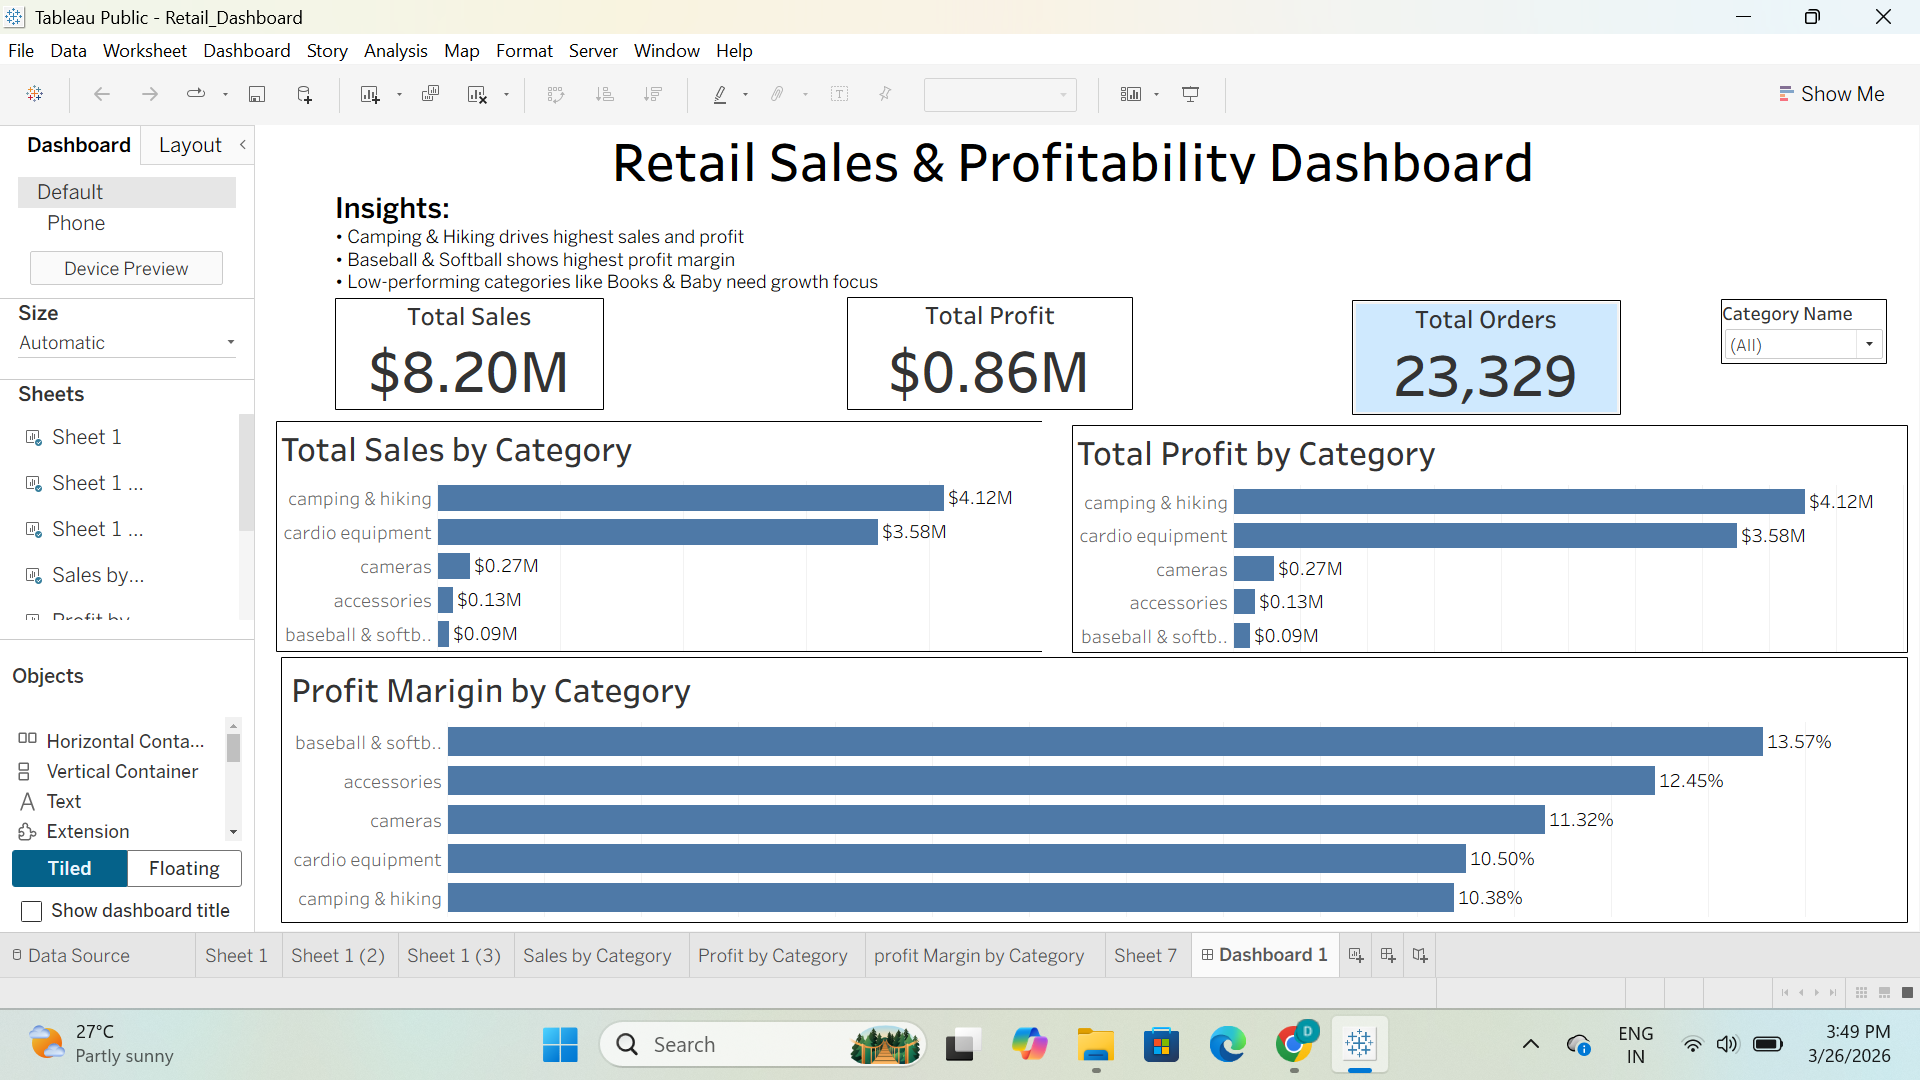

This screenshot's page, from the dashboard's own definition file:
{"tool":"tableau","page":{"name":"Dashboard 1","canvas":[1000,1000],"units":"permille","ordinal":0},"visuals":[{"type":"text","box":[8.7,12.4,965.1,60.8]},{"type":"text","box":[45.6,81.9,908.9,129]},{"type":"worksheet","title":"Sheet 1 (2)","mark":"Automatic","box":[352.9,207.2,177.7,152.6]},{"type":"worksheet","title":"Sheet 1","mark":"Automatic","box":[44.9,208.4,167.7,151.4]},{"type":"worksheet","title":"Sheet 1 (3)","mark":"Automatic","box":[656.5,210.9,167.7,155.1]},{"type":"filter","title":"Sales by Category","param":"[federated.1agfpco09b7ufm1dhquy41u8c0mh].[none:category_name:nk]","box":[880.9,215.9,99.8,80.7]},{"type":"worksheet","title":"Sales by Category","mark":"Automatic","rows":["category_name"],"cols":["total_sales"],"box":[12.5,367.2,460.7,286.6]},{"type":"worksheet","title":"Profit by Category","mark":"Automatic","rows":["category_name"],"cols":["total_profit"],"box":[491.3,372.2,502.5,282.9]},{"type":"worksheet","title":"profit Margin by Category","mark":"Automatic","rows":["category_name"],"cols":["Calculation_0961575812714496"],"box":[12.5,653.9,983.8,342.4]}]}

Visuals, with their boxes on the dashboard's canvas, which has no fixed pixel size, in thousandths of its width and height (x1, y1, x2, y2). These are canvas units, not pixel positions in the 1920x1080 screenshot, which may show the page scaled, cropped or inside an application window:
text: box(9, 12, 974, 73)
text: box(46, 82, 954, 211)
"Sheet 1 (2)" worksheet: box(353, 207, 531, 360)
"Sheet 1" worksheet: box(45, 208, 213, 360)
"Sheet 1 (3)" worksheet: box(656, 211, 824, 366)
"Sales by Category" filter: box(881, 216, 981, 297)
"Sales by Category" worksheet: box(12, 367, 473, 654)
"Profit by Category" worksheet: box(491, 372, 994, 655)
"profit Margin by Category" worksheet: box(12, 654, 996, 996)
